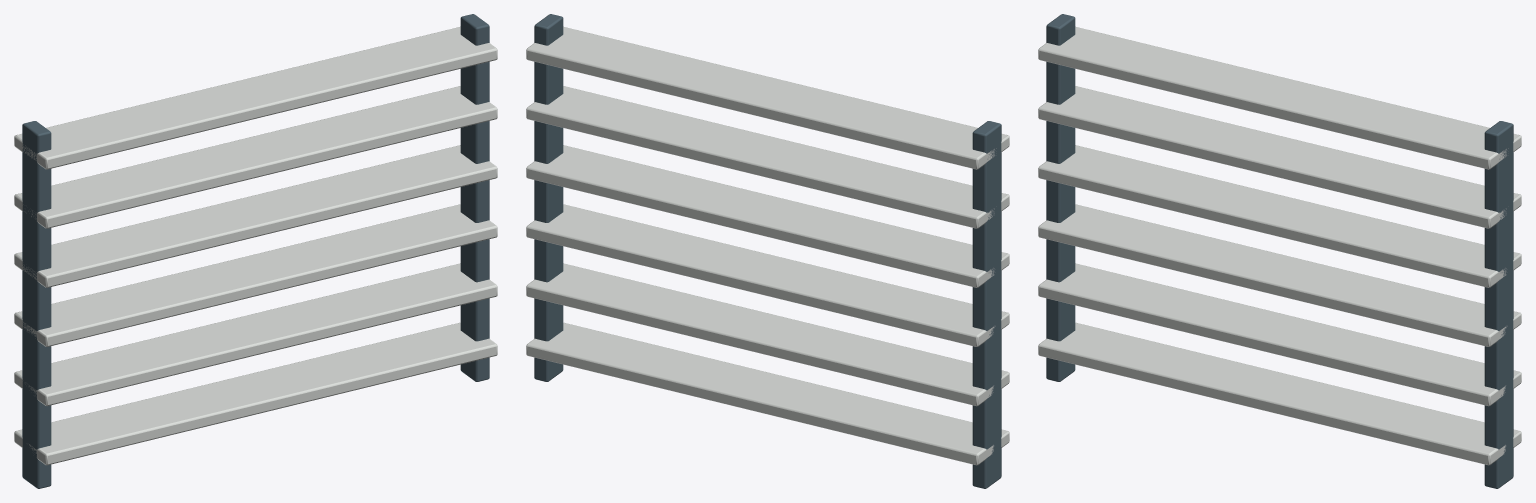
File: MOD_Brise_Horizontal_01.glb
The picture shows the model from 3 angles, left to right: view 1: azimuth 30°, elevation 25°; view 2: azimuth 150°, elevation 25°; view 3: azimuth 330°, elevation 25°; orthographic projection.
Parts seen in each view (by area): view 1: MOD_Brise_Horizontal_01; view 2: MOD_Brise_Horizontal_01; view 3: MOD_Brise_Horizontal_01.
Boxes of the visible parts, box(x1,y1,x2,y2) form: MOD_Brise_Horizontal_01: box(14, 14, 497, 488); MOD_Brise_Horizontal_01: box(526, 14, 1009, 488); MOD_Brise_Horizontal_01: box(1038, 14, 1521, 488).
Size of the model in its own units: 4 by 3 by 0.5.
